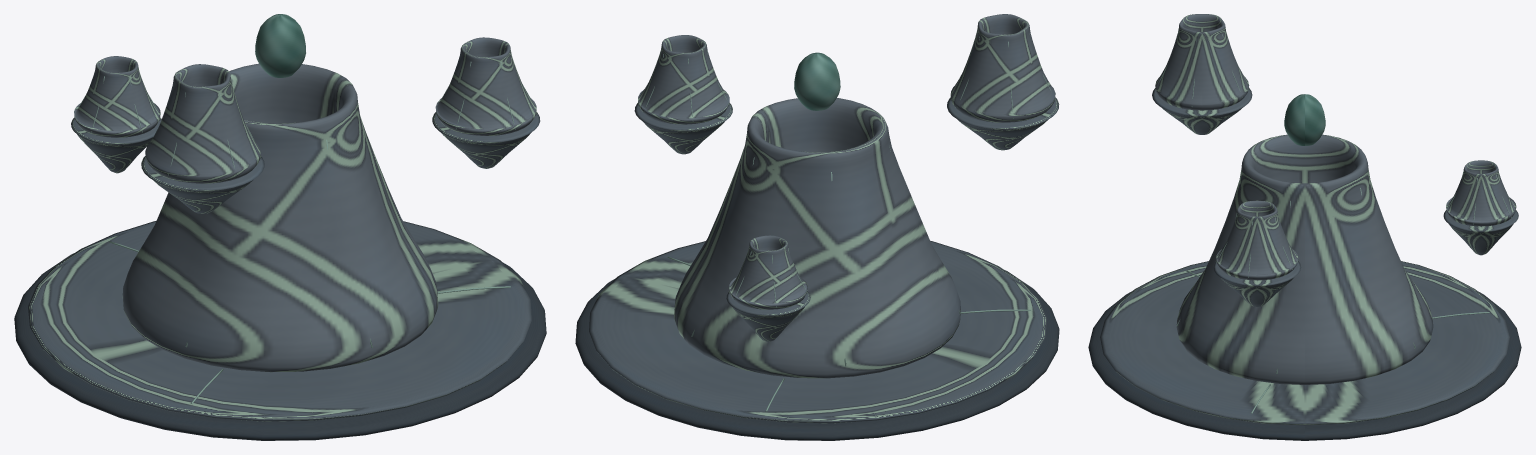
Rendered from GGA1401_source.obj.
The picture shows the model from 3 angles, left to right: view 1: azimuth 30°, elevation 25°; view 2: azimuth 150°, elevation 25°; view 3: azimuth 270°, elevation 25°; orthographic projection. The views are drawn at different scales.
Visible parts, largest first — view 1: GGA1401, Island_B, Island_A, Island_C, Core; view 2: GGA1401, Island_B, Island_A, Island_C, Core; view 3: GGA1401, Island_B, Island_A, Island_C, Core.
Boxes of the visible parts, x1,y1,x2,y2 form: GGA1401: [14, 63, 546, 440]; Island_B: [141, 64, 264, 213]; Island_A: [432, 37, 540, 168]; Island_C: [71, 56, 161, 173]; Core: [255, 14, 305, 77]; GGA1401: [575, 98, 1059, 440]; Island_B: [947, 14, 1059, 150]; Island_A: [634, 35, 732, 154]; Island_C: [726, 235, 810, 341]; Core: [794, 52, 840, 110]; GGA1401: [1088, 134, 1521, 440]; Island_B: [1152, 14, 1252, 134]; Island_A: [1213, 200, 1301, 306]; Island_C: [1443, 160, 1518, 255]; Core: [1284, 94, 1325, 145].
Size of the model in its own units: 59 by 41.59 by 59.
Materials: 1 (1 with a texture image).
